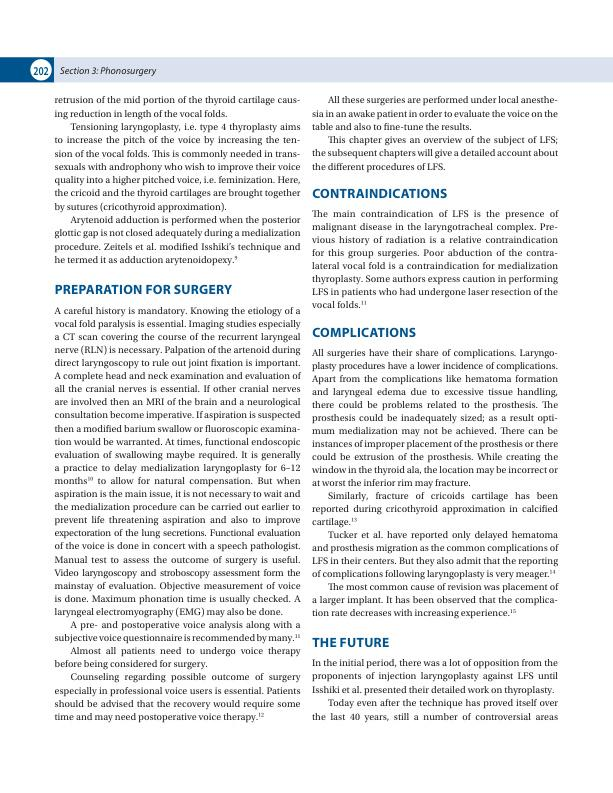header: (59, 66, 157, 77)
section-heading: (53, 282, 233, 296), (311, 187, 448, 199), (311, 326, 417, 338), (311, 637, 390, 648)
text: (53, 305, 302, 724), (310, 348, 559, 619), (53, 94, 301, 267), (311, 209, 560, 309), (310, 94, 559, 174), (311, 658, 559, 723)
